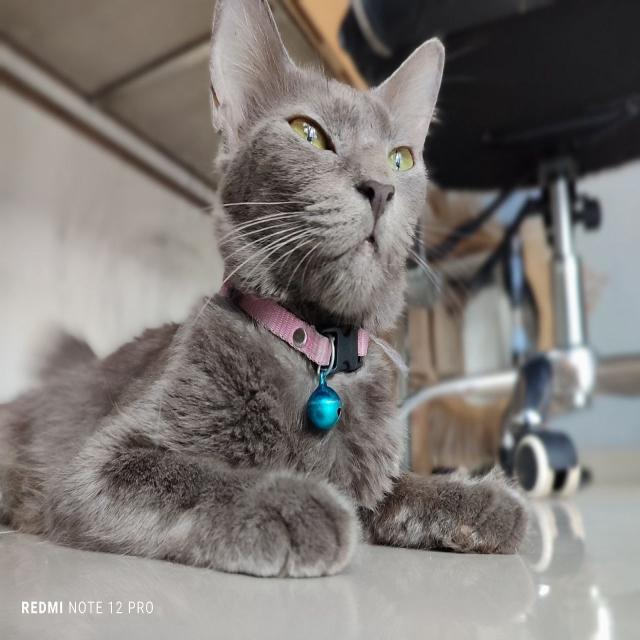da khoe manh: (12, 373, 288, 522)
